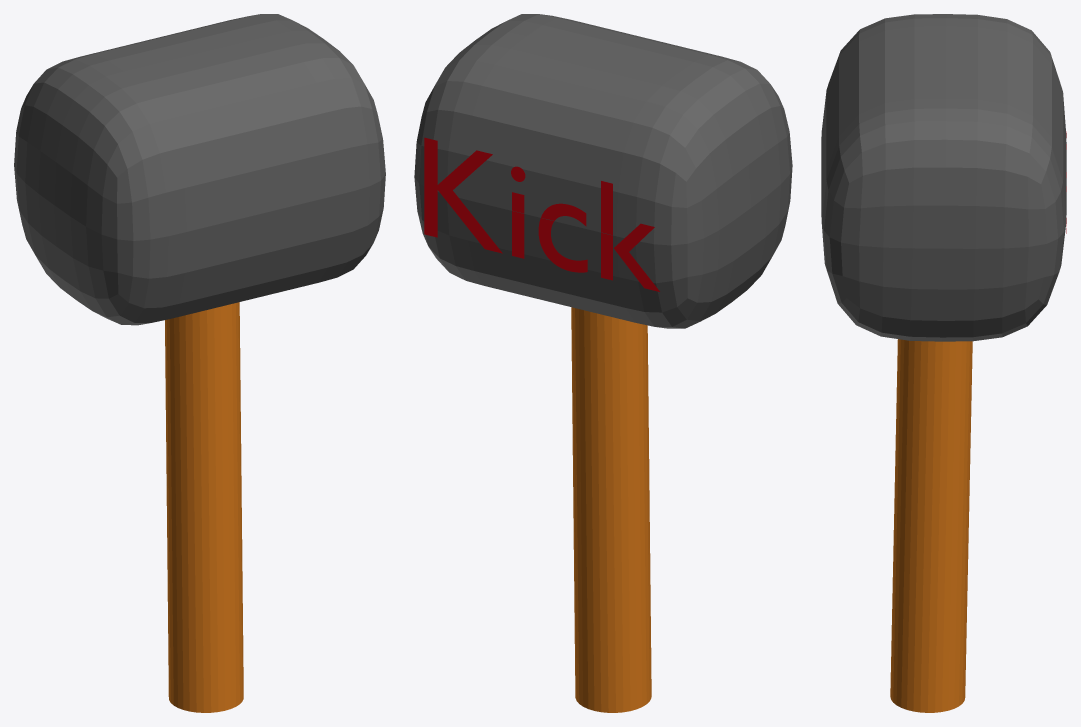
File: kickHammer.fbx
3 views of the same model, side by side, from view 1: azimuth 30°, elevation 25°; view 2: azimuth 150°, elevation 25°; view 3: azimuth 270°, elevation 25° (orthographic).
Visible parts, largest first — view 1: Thing, Handle; view 2: Thing, Handle, Text; view 3: Thing, Handle.
Part boxes in pixels (x1,y1,x2,y2): Thing: [14, 14, 385, 325]; Handle: [165, 302, 243, 712]; Thing: [414, 14, 792, 328]; Handle: [571, 307, 651, 712]; Text: [424, 137, 659, 291]; Thing: [821, 14, 1066, 341]; Handle: [890, 339, 972, 712].
Bounding box in the file's own units: 85.22 × 178 × 62.28.
